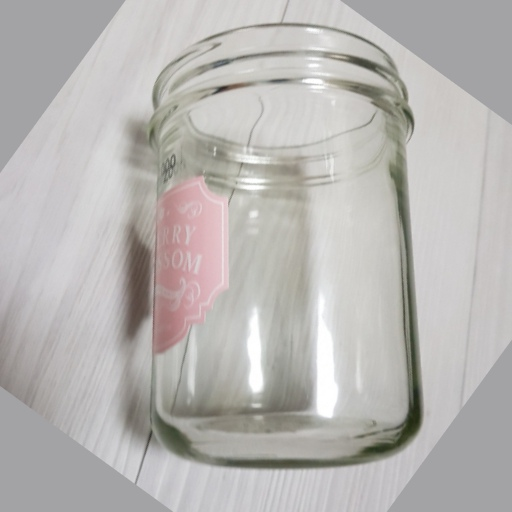Glass_5: (141, 22, 426, 472)
